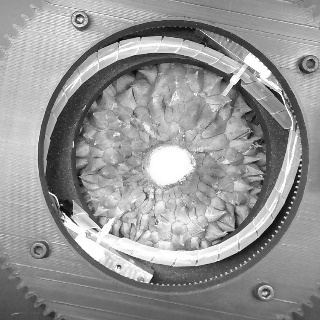base: (140, 138, 199, 193)
end: (148, 145, 195, 187)
